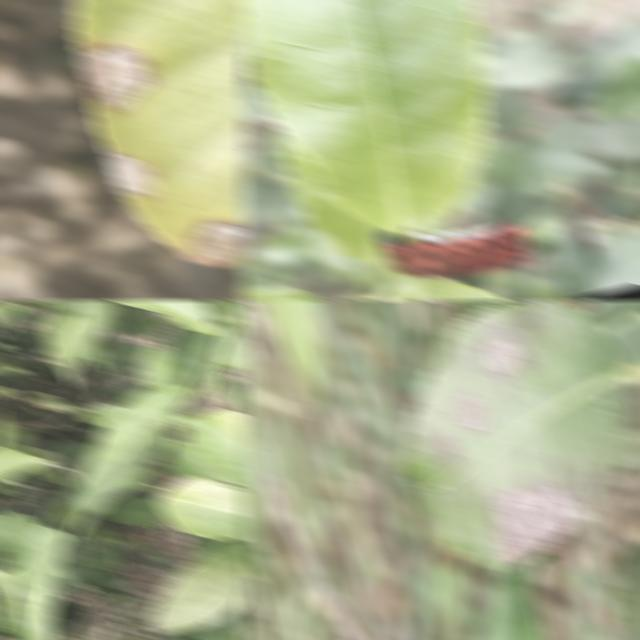Leaf: (402, 300, 634, 569), (240, 0, 488, 231), (72, 0, 246, 265), (76, 385, 194, 482), (70, 423, 171, 534), (148, 538, 246, 632), (476, 550, 553, 640), (240, 338, 268, 579), (12, 523, 69, 640), (264, 300, 324, 406), (155, 475, 246, 539), (177, 408, 246, 486), (482, 32, 571, 89), (507, 147, 612, 194), (110, 300, 221, 338), (588, 223, 640, 295), (42, 309, 86, 386), (386, 275, 511, 300), (593, 56, 640, 116), (162, 324, 205, 386), (167, 439, 228, 482), (77, 300, 119, 355), (137, 336, 181, 388), (0, 511, 42, 564), (95, 495, 166, 526), (0, 445, 51, 481), (215, 331, 246, 368), (89, 539, 121, 572), (0, 303, 29, 325), (199, 623, 232, 640)
